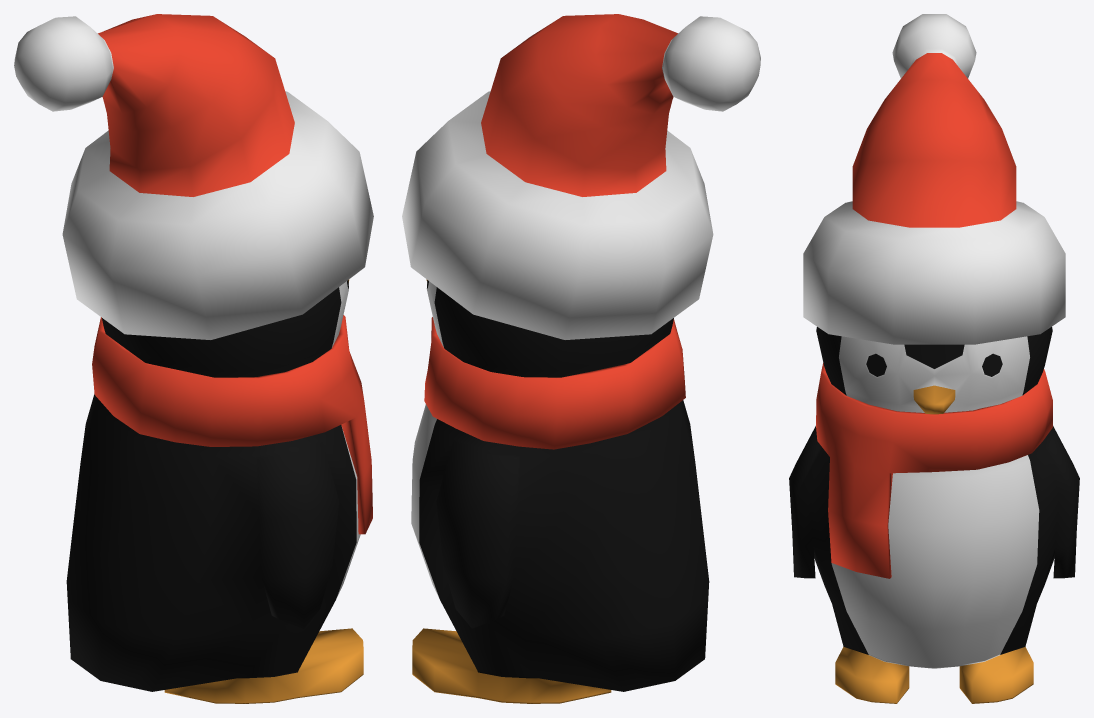
Rendered from christmas_penguin_glTF.glb.
The picture shows the model from 3 angles, left to right: view 1: azimuth 30°, elevation 25°; view 2: azimuth 150°, elevation 25°; view 3: azimuth 270°, elevation 25°; orthographic projection. The views are drawn at different scales.
Parts seen in each view (by area): view 1: ChristmasPenguinHat, ChristmasPenguin, ChristmasPenguinScar; view 2: ChristmasPenguin, ChristmasPenguinHat, ChristmasPenguinScar; view 3: ChristmasPenguin, ChristmasPenguinHat, ChristmasPenguinScar.
Part boxes in pixels (<box>): ChristmasPenguinHat: <box>14,14,373,339</box>; ChristmasPenguin: <box>66,279,363,703</box>; ChristmasPenguinScar: <box>92,315,372,534</box>; ChristmasPenguin: <box>411,279,709,703</box>; ChristmasPenguinHat: <box>402,14,760,339</box>; ChristmasPenguinScar: <box>424,317,685,449</box>; ChristmasPenguin: <box>789,327,1079,703</box>; ChristmasPenguinHat: <box>803,14,1065,344</box>; ChristmasPenguinScar: <box>816,363,1052,578</box>.
Bounding box in the file's own units: 0.6697 × 1.33 × 0.6092.
